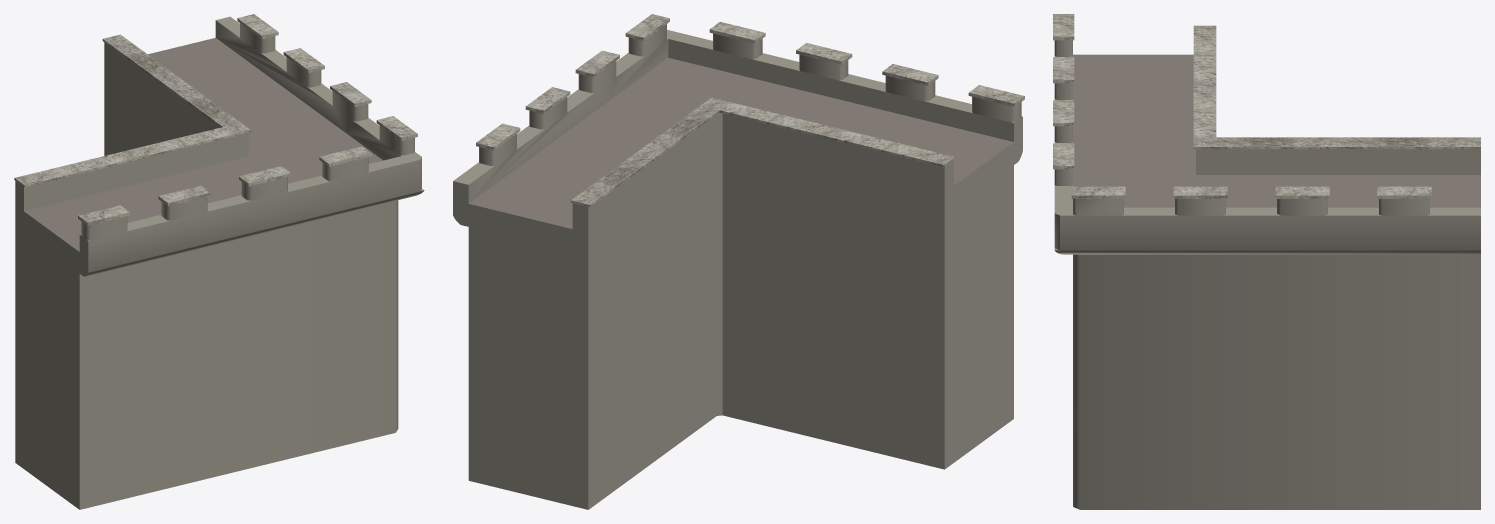
Rendered from Wall_corner.fbx.
3 views of the same model, side by side, from view 1: azimuth 30°, elevation 25°; view 2: azimuth 150°, elevation 25°; view 3: azimuth 270°, elevation 25° (orthographic). The views are drawn at different scales.
Visible parts, largest first — view 1: Model; view 2: Model; view 3: Model.
Part boxes in pixels (x1,y1,x2,y2): Model: (14,14,424,509); Model: (453,14,1024,509); Model: (1053,14,1480,509).
Size of the model in its own units: 25.44 by 21.11 by 25.35.
